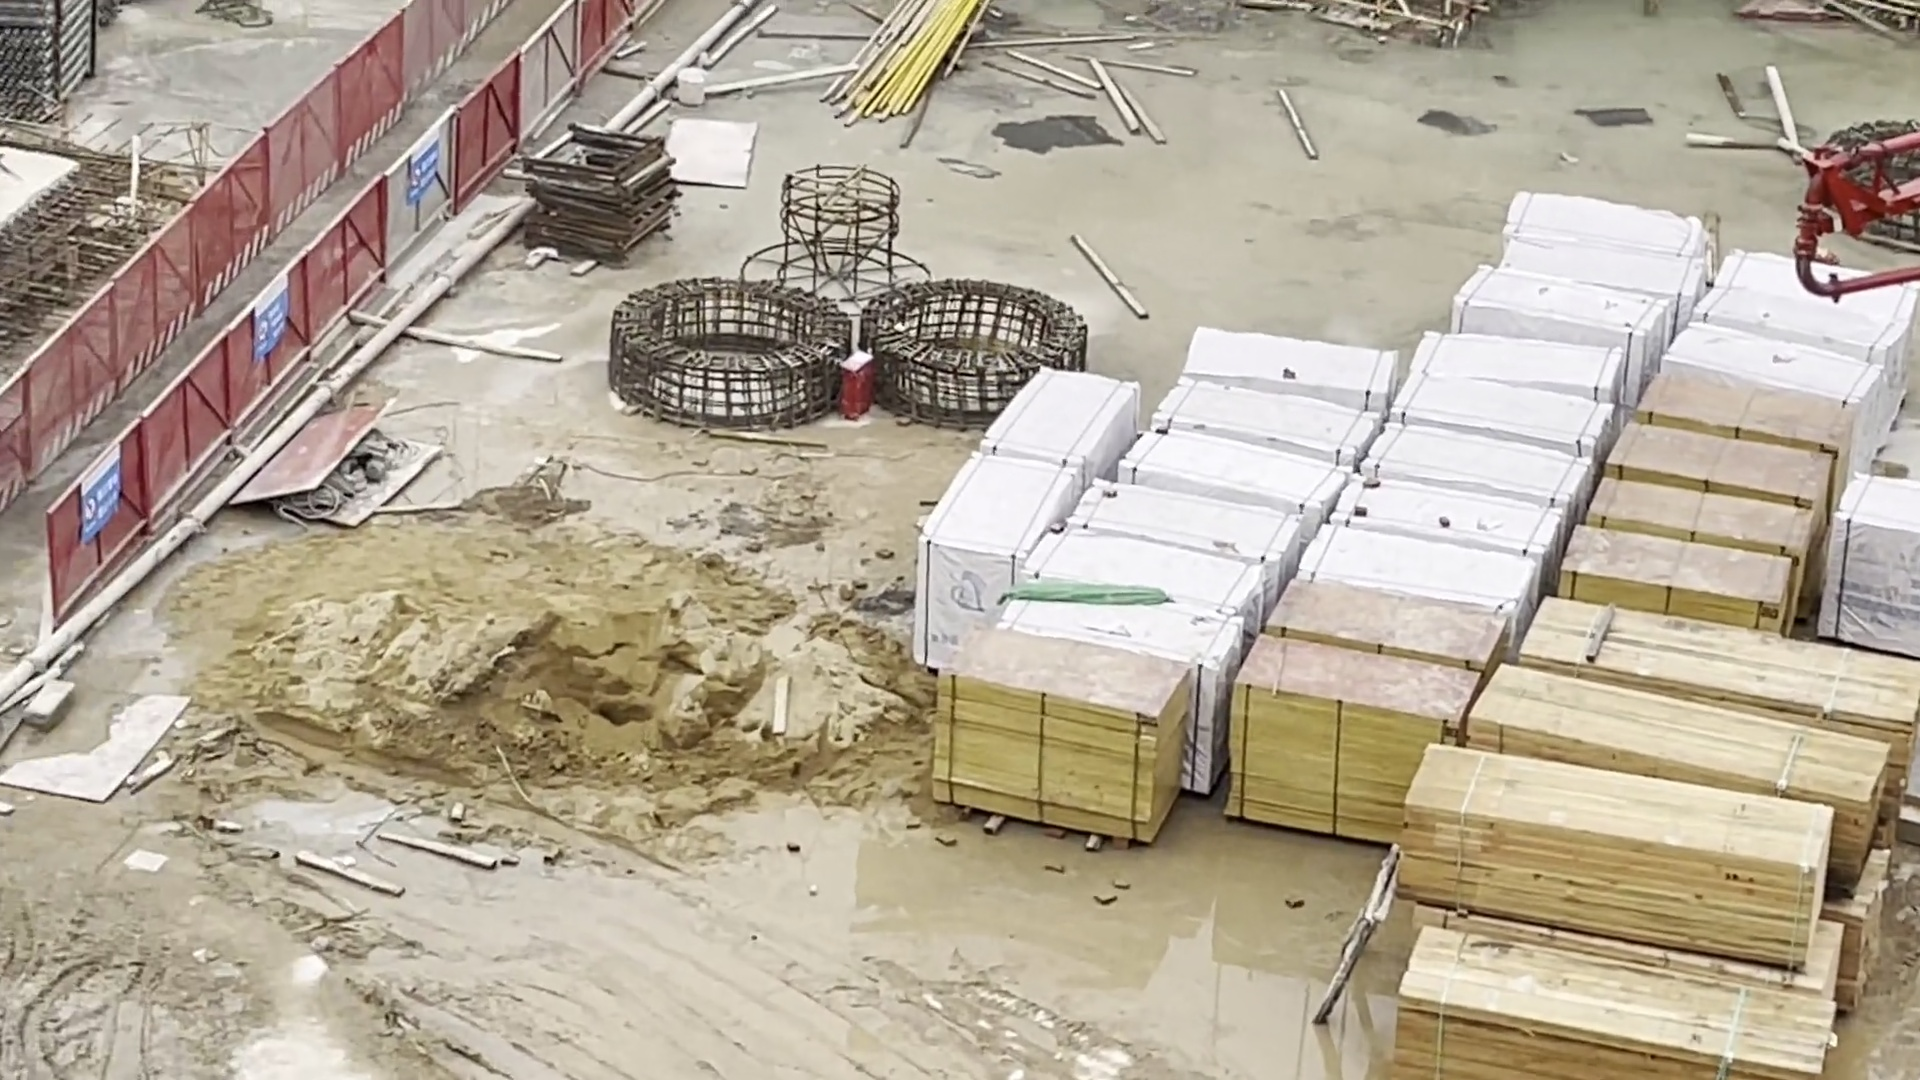fence: (54, 17, 589, 596)
scaffold: (7, 1, 88, 121)
slogan: (79, 444, 131, 524), (400, 129, 456, 200), (253, 280, 303, 349)
wood: (1396, 735, 1846, 965), (1385, 913, 1865, 1080), (1230, 629, 1499, 887), (1473, 669, 1895, 832), (922, 646, 1207, 849), (1545, 596, 1920, 723), (1269, 566, 1506, 682), (1604, 417, 1838, 517), (1564, 534, 1797, 621), (1642, 368, 1858, 460), (1592, 477, 1818, 559)
